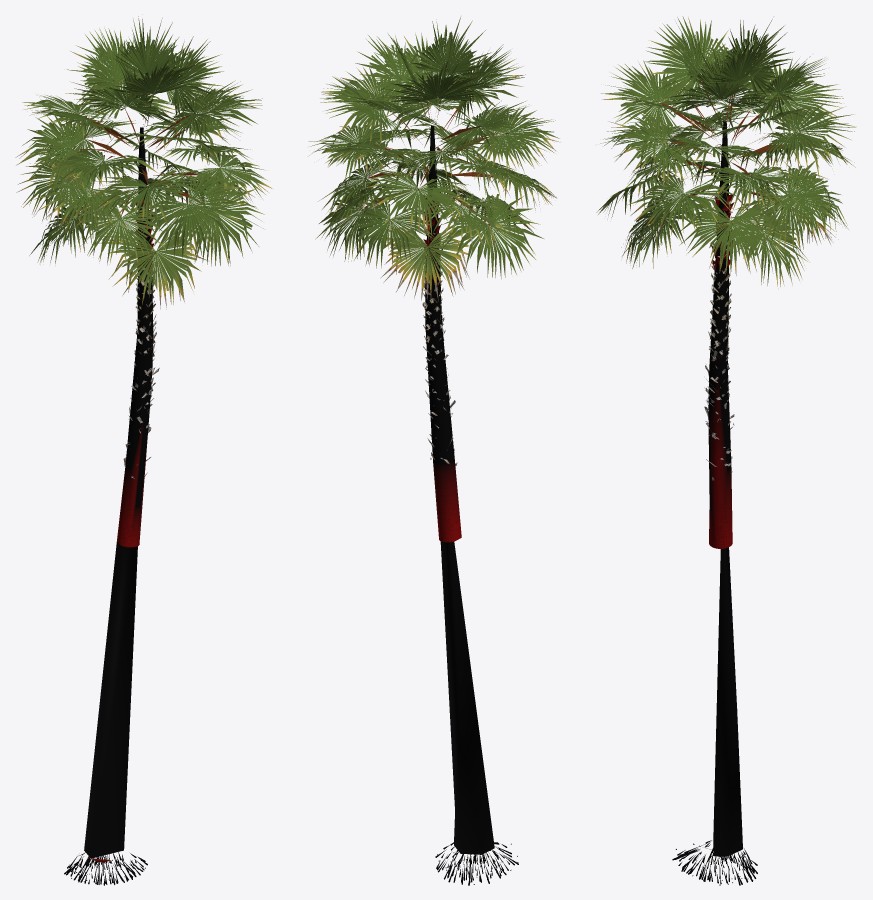
File: palm_fan_mid.glb
3 views of the same model, side by side, from view 1: azimuth 30°, elevation 25°; view 2: azimuth 150°, elevation 25°; view 3: azimuth 270°, elevation 25° (orthographic). The views are drawn at different scales.
Visible parts, largest first — view 1: Washingtonia_robusta_HD_V2; view 2: Washingtonia_robusta_HD_V2; view 3: Washingtonia_robusta_HD_V2.
Part boxes in pixels (<box>): Washingtonia_robusta_HD_V2: <box>15,16,272,885</box>; Washingtonia_robusta_HD_V2: <box>308,17,559,885</box>; Washingtonia_robusta_HD_V2: <box>596,16,856,885</box>.
Bounding box in the file's own units: 3.92 × 14.04 × 3.87.
15 materials, 15 textured.
